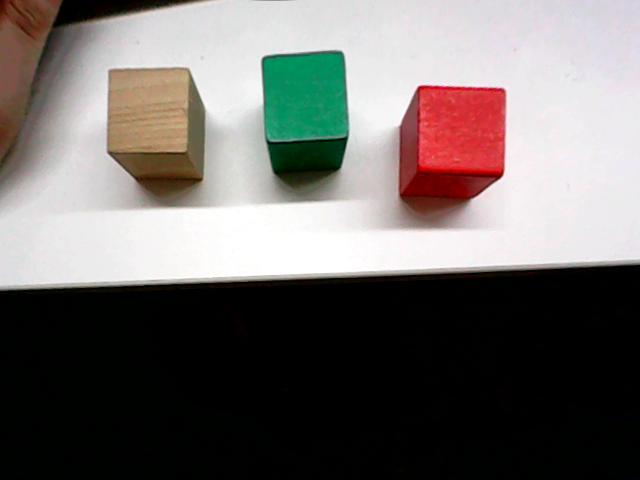green_box: (257, 46, 352, 177)
raw_box: (103, 62, 208, 192)
red_box: (395, 79, 510, 203)
